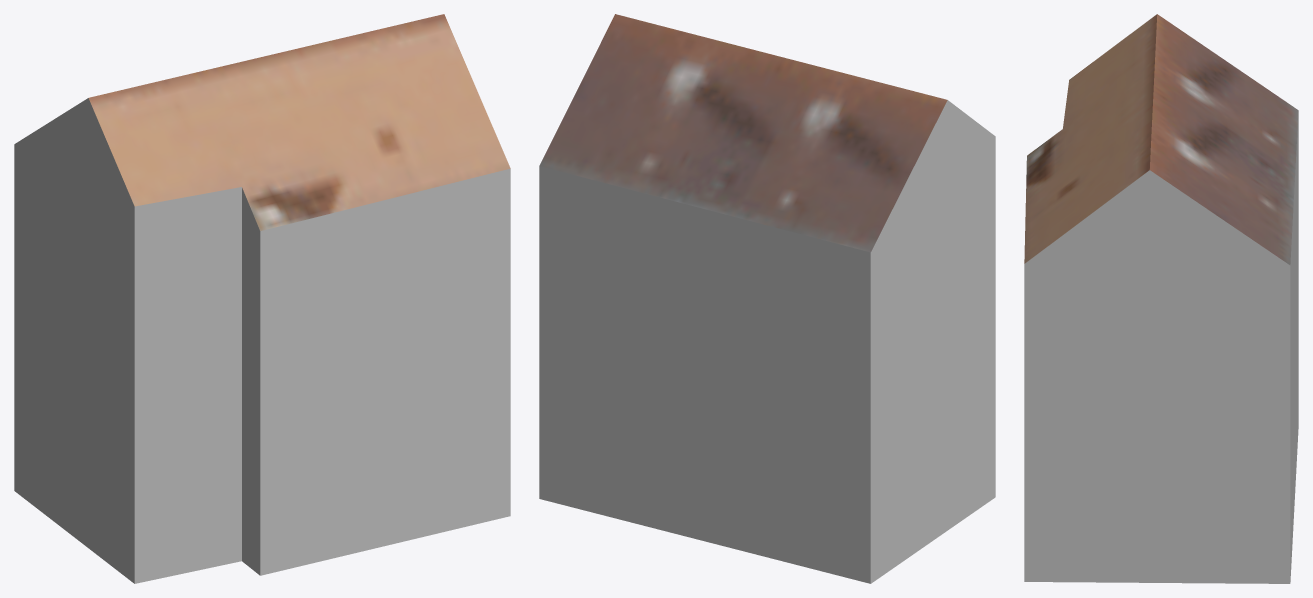
File: DEBW_0010007TxgQ.gltf
3 views of the same model, side by side, from view 1: azimuth 30°, elevation 25°; view 2: azimuth 150°, elevation 25°; view 3: azimuth 270°, elevation 25° (orthographic). The views are drawn at different scales.
Parts seen in each view (by area): view 1: Z_UP; view 2: Z_UP; view 3: Z_UP.
Boxes of the visible parts, box(x1,y1,x2,y2) form: Z_UP: box(14, 14, 510, 583); Z_UP: box(539, 14, 995, 583); Z_UP: box(1024, 14, 1298, 583).
Size of the model in its own units: 14.69 by 17.79 by 10.71.
2 materials, 1 textured.
